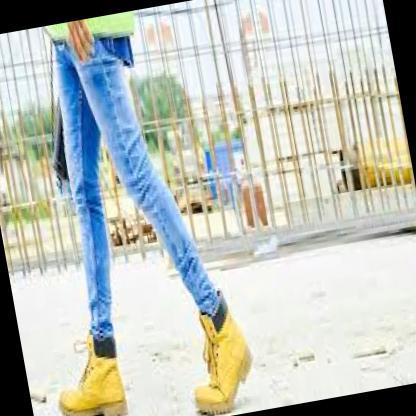safety-shoe: (162, 313, 273, 415), (41, 338, 144, 415)
